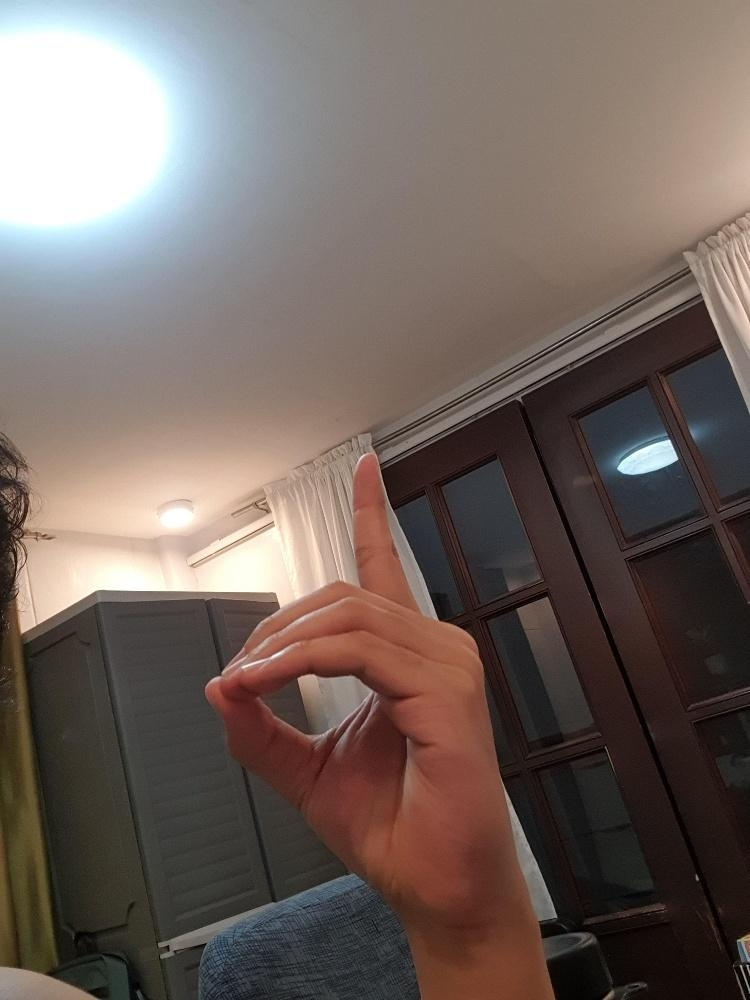d: (201, 444, 519, 930)
